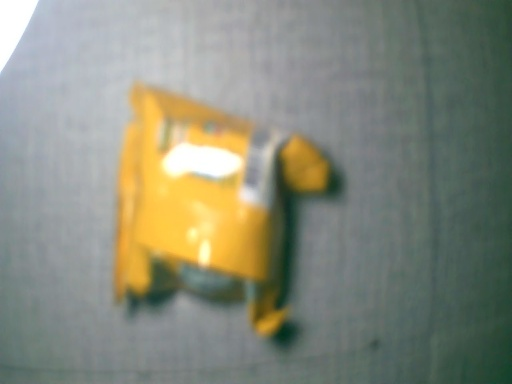plastic: (102, 84, 333, 331)
